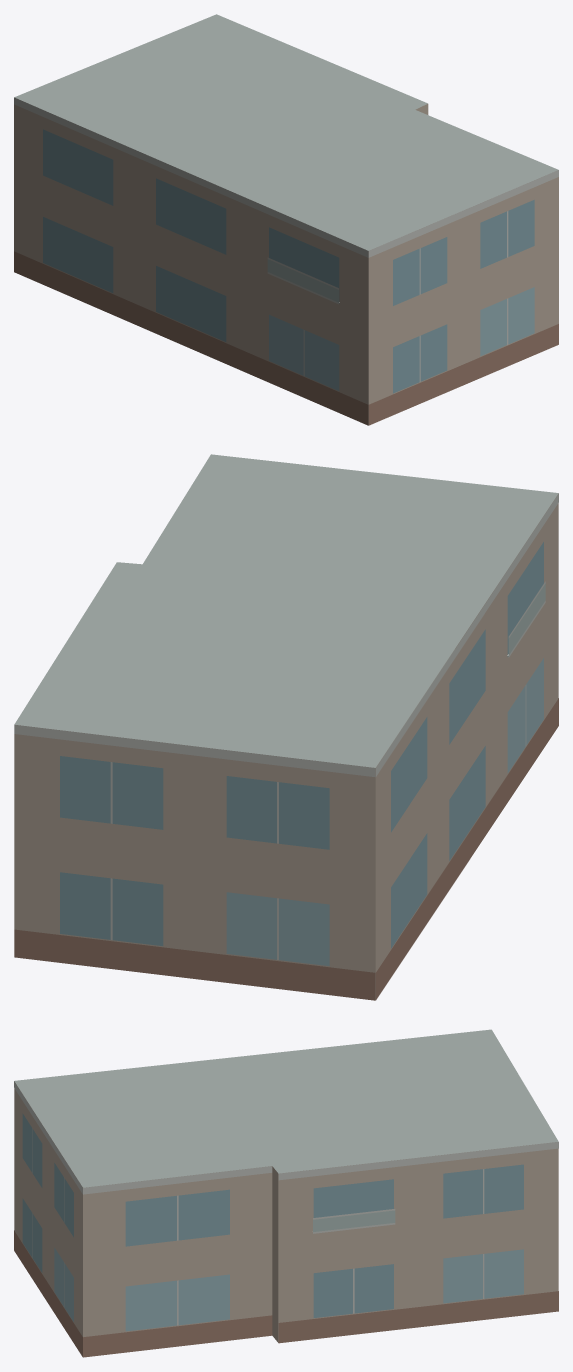
File: survey-upis-32721332.glb
The picture shows the model from 3 angles, top to bottom: view 1: azimuth 30°, elevation 25°; view 2: azimuth 150°, elevation 25°; view 3: azimuth 270°, elevation 25°; orthographic projection. The views are drawn at different scales.
Visible parts, largest first — view 1: survey-upis-32721332.tmp; view 2: survey-upis-32721332.tmp; view 3: survey-upis-32721332.tmp.
Boxes of the visible parts, x1=… form: survey-upis-32721332.tmp: x1=14, y1=14, x2=558, y2=425; survey-upis-32721332.tmp: x1=14, y1=454, x2=558, y2=1000; survey-upis-32721332.tmp: x1=14, y1=1029, x2=558, y2=1357.
Size of the model in its own units: 12.22 by 6.1 by 17.76.
